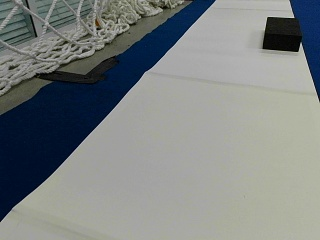block: (262, 17, 300, 51)
